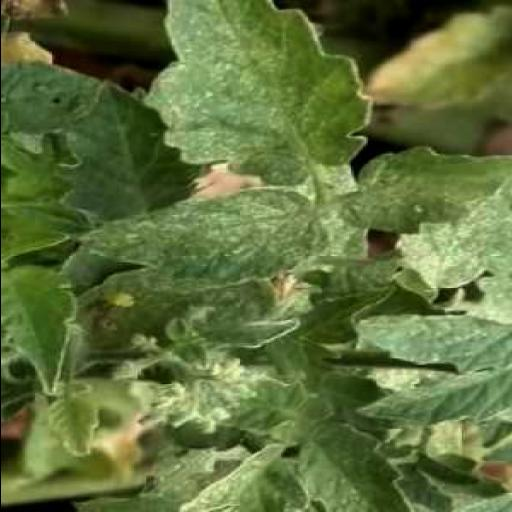Spider Mites: (143, 0, 369, 188), (70, 186, 328, 284)
